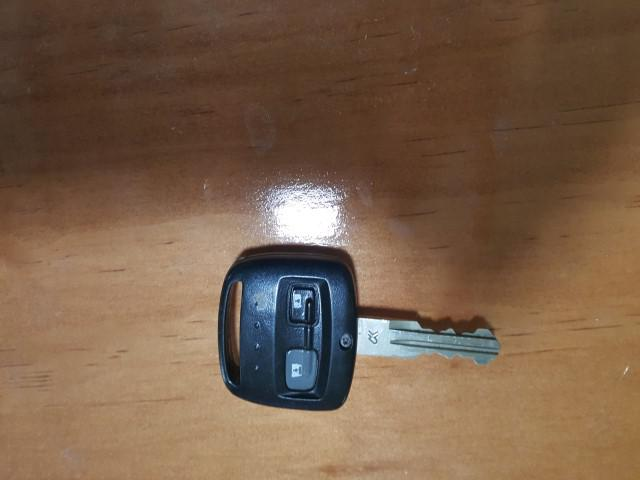key: (214, 250, 500, 480)
